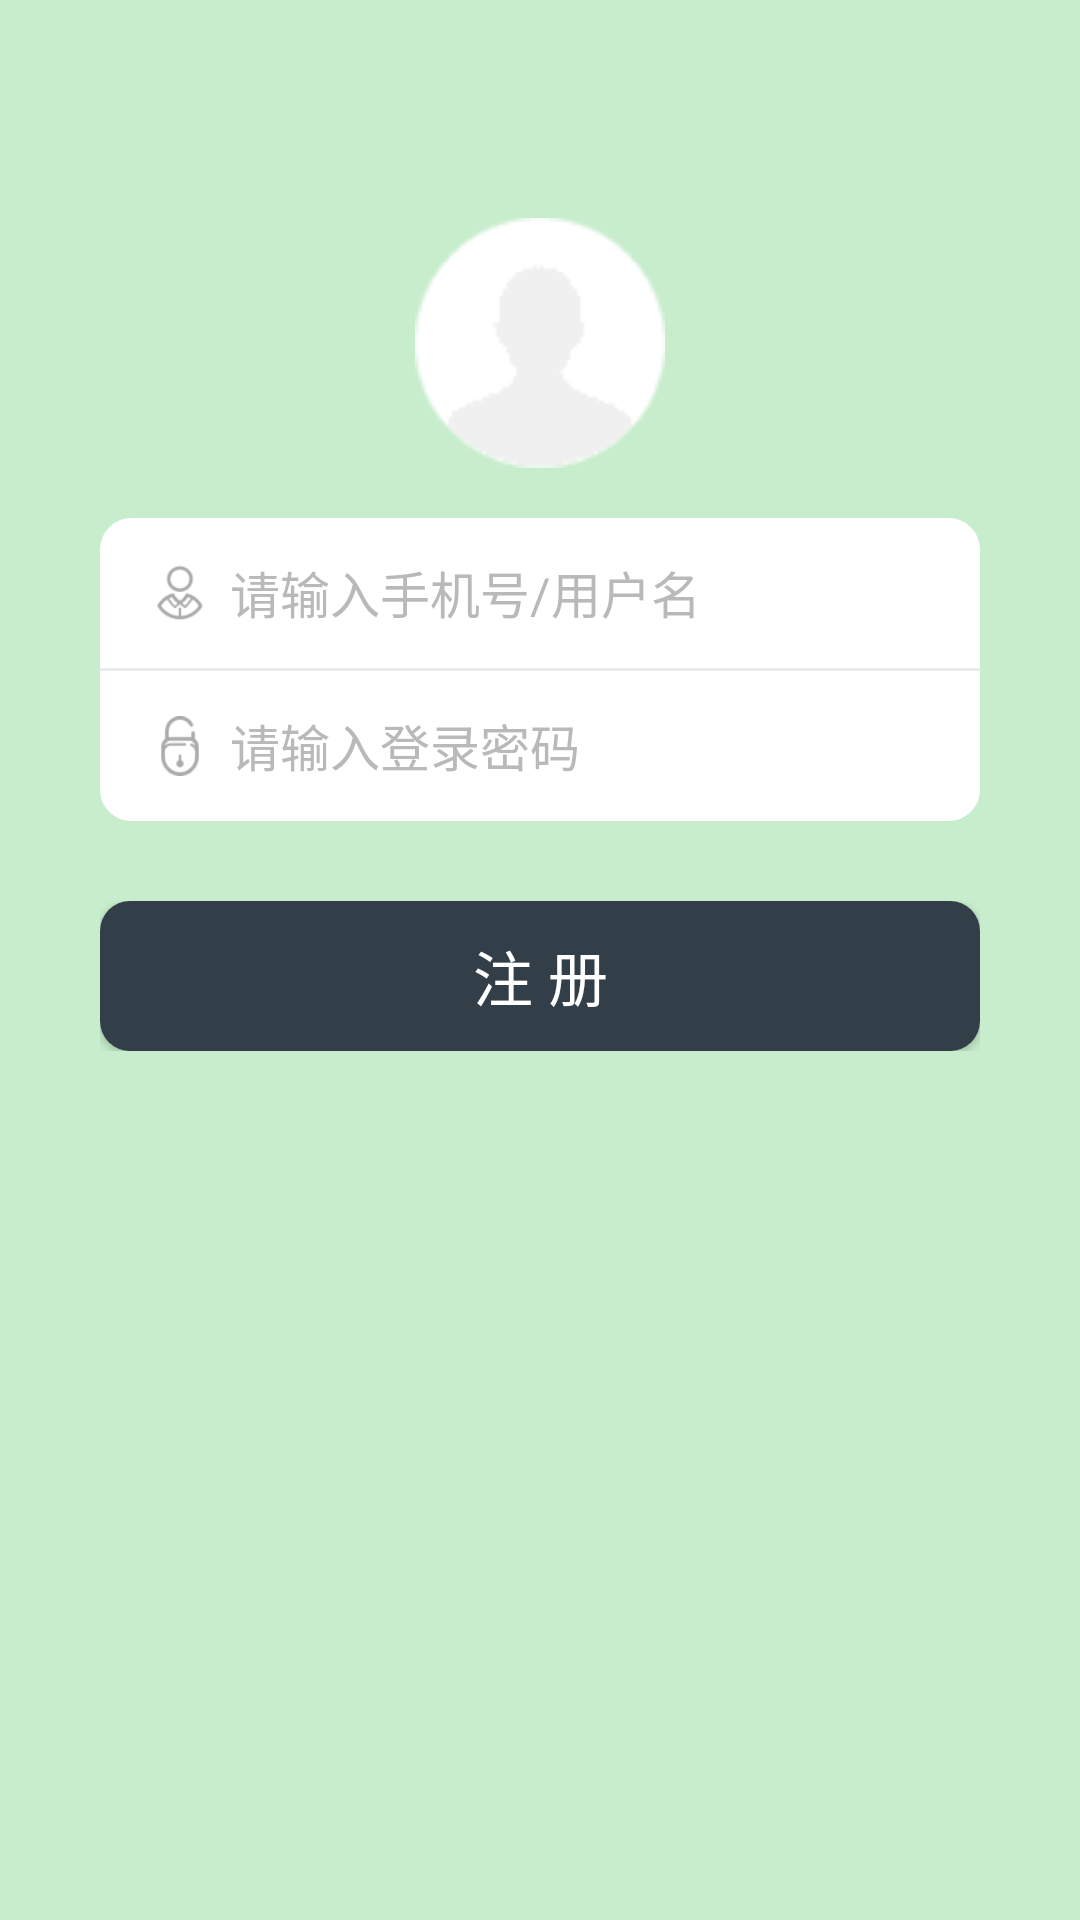

Where to tap for icons on this 1080 × 1920 app screen, as [x,y]:
login input password: [180,746]
login input user: [180,593]
user pic: [540,343]
